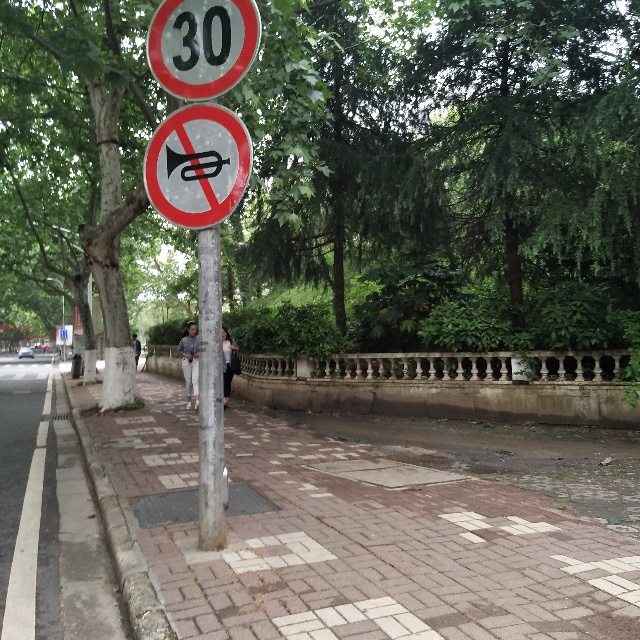nohonk: (155, 112, 249, 223)
